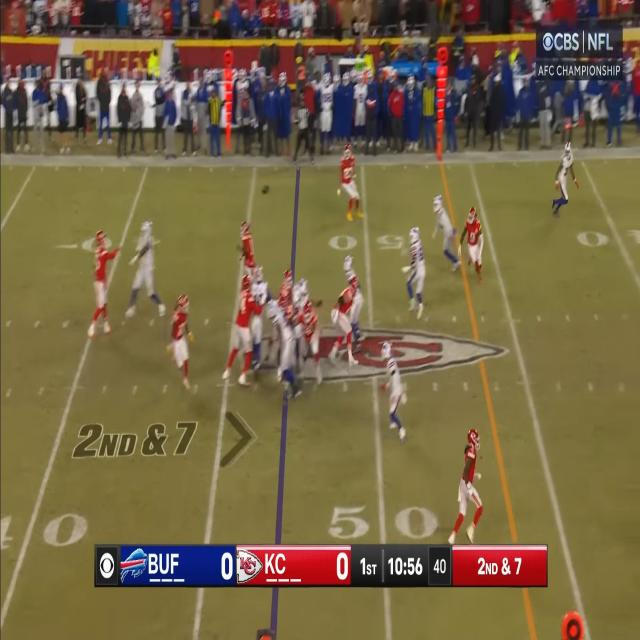Ball: (261, 183, 270, 194)
